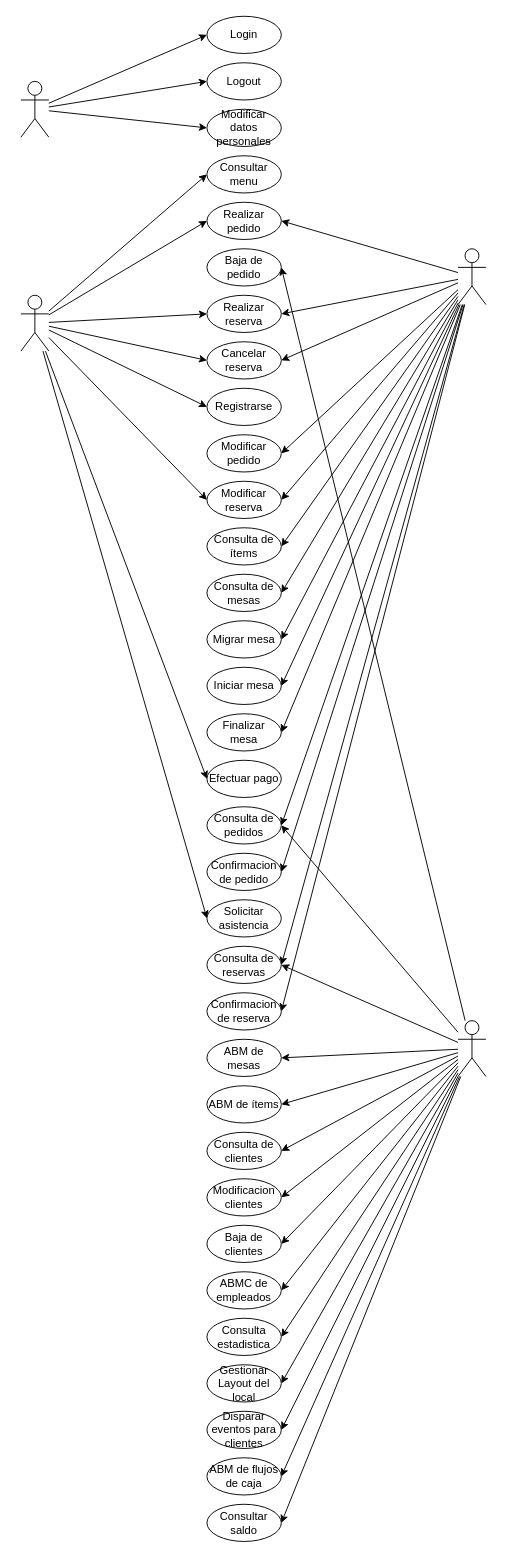
The diagram is 523 pixels wide and 1558 high, and some of its shapes have lost their labels. Each missing label, with the centre of its shape:
Administrador: the point at 471,1048
Cliente: the point at 34,322
Empleado: the point at 471,276
Usuario: the point at 34,108
